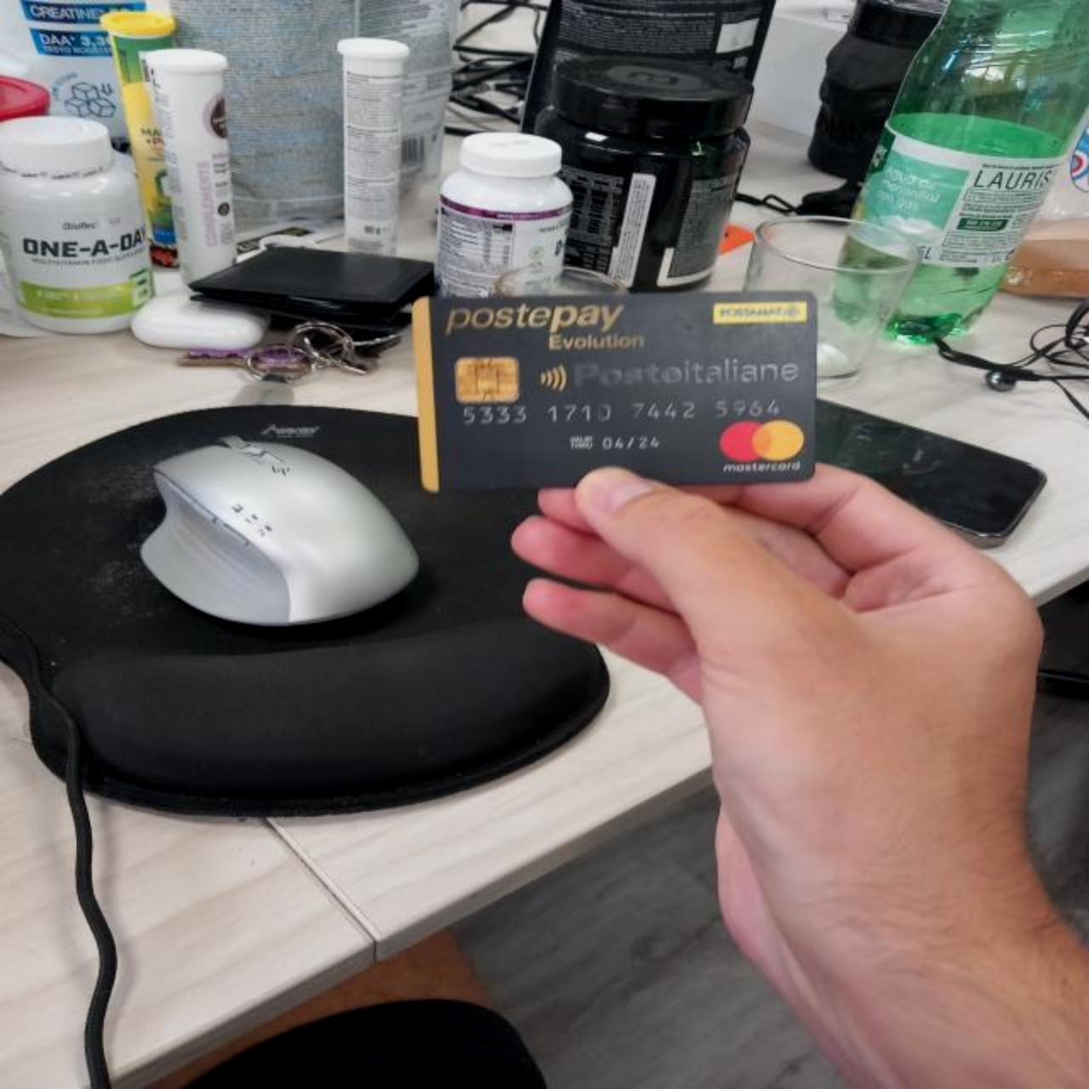credit_card: (408, 293, 830, 493)
